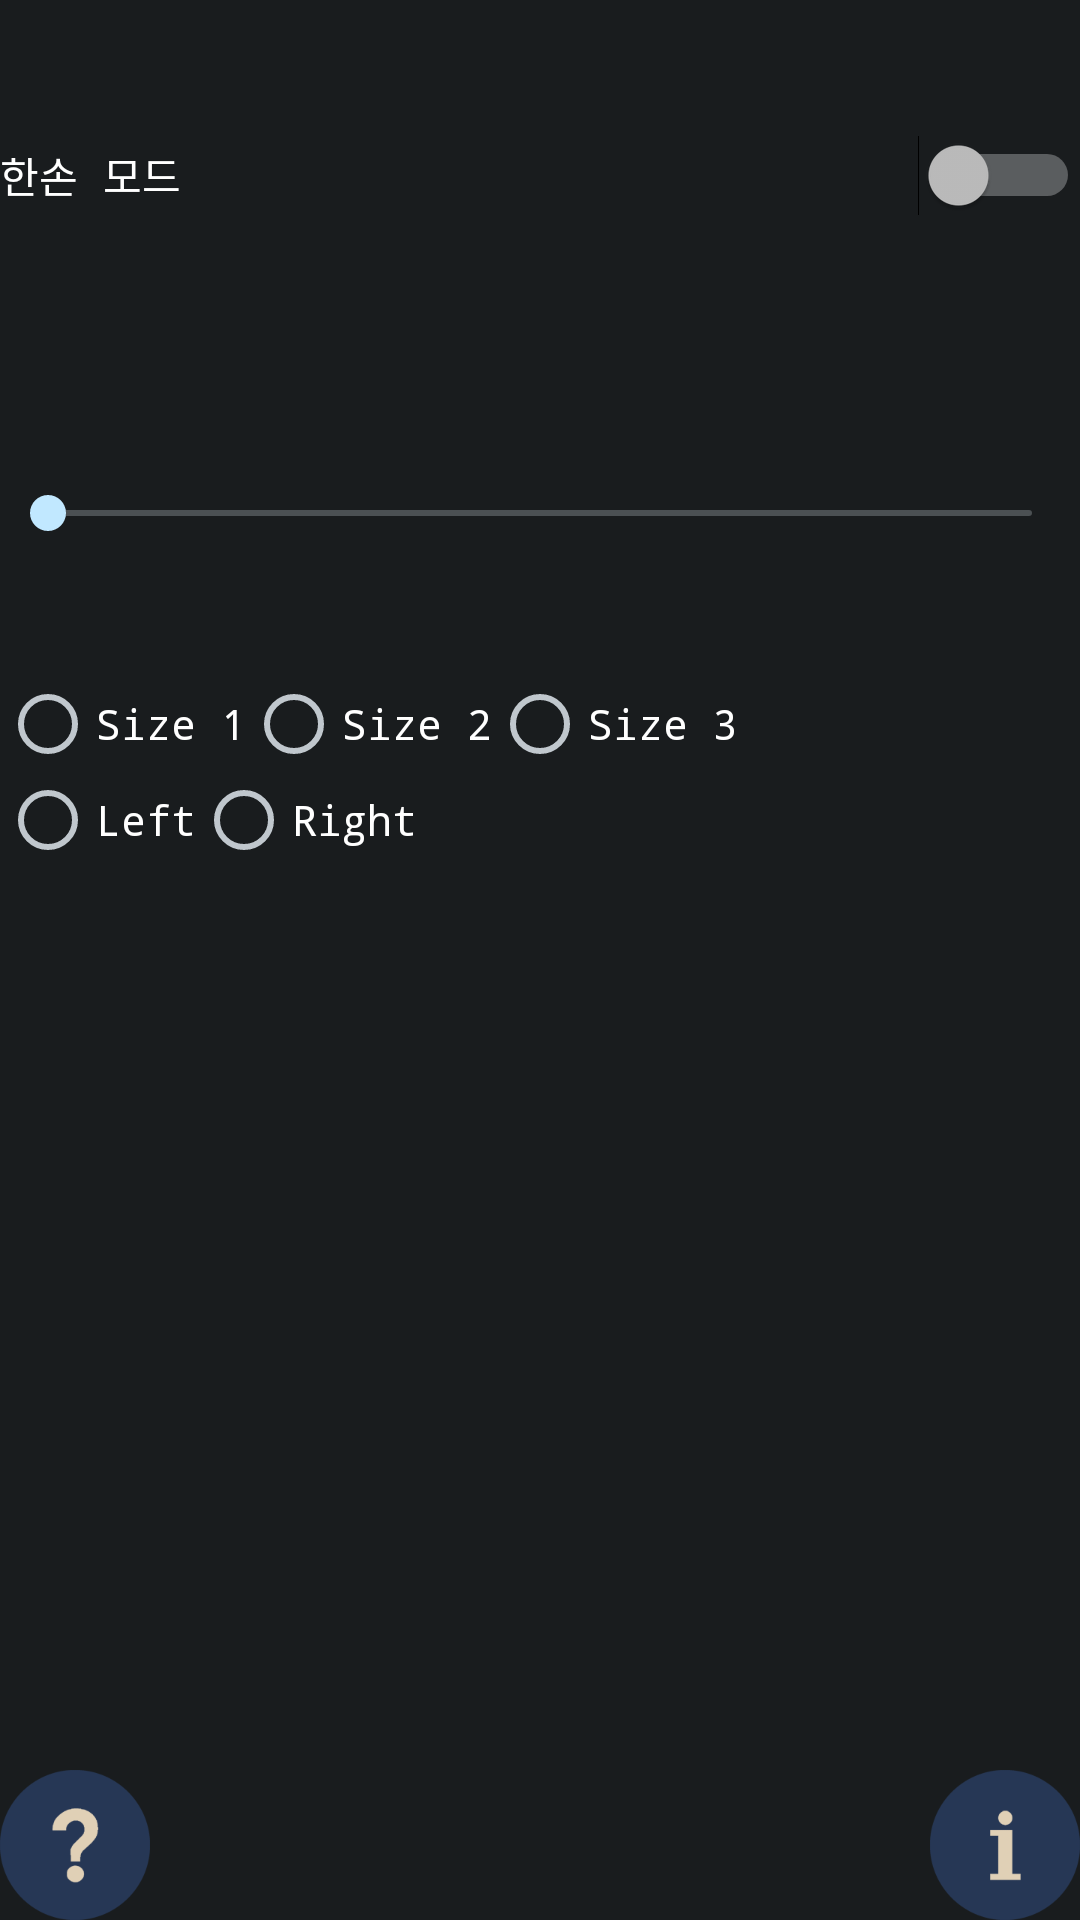

Icon bounding boxes for this 1080 x 1920 phone screenshot, format [x1,y1,x2,y2]:
information: [930,1770,1080,1920]
question: [0,1770,150,1920]
